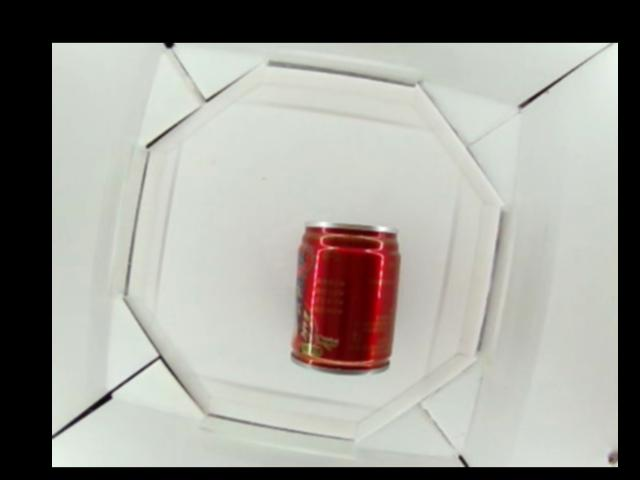Bottle: (289, 221, 403, 379)
